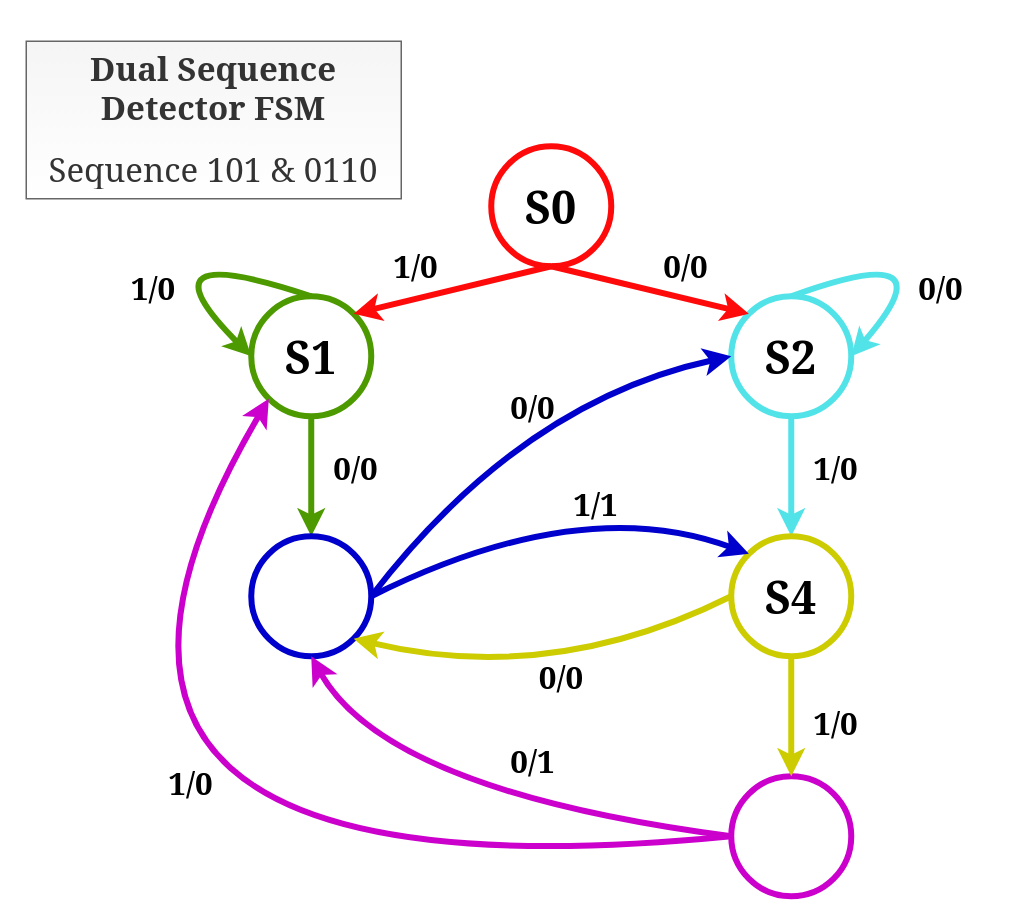
Some shapes in this 1013 by 924 pixel diagram are drawn without their labels. Each missing label, with the centre of its shape:
"S3" belongs at (311,595).
"S5" belongs at (791,835).
